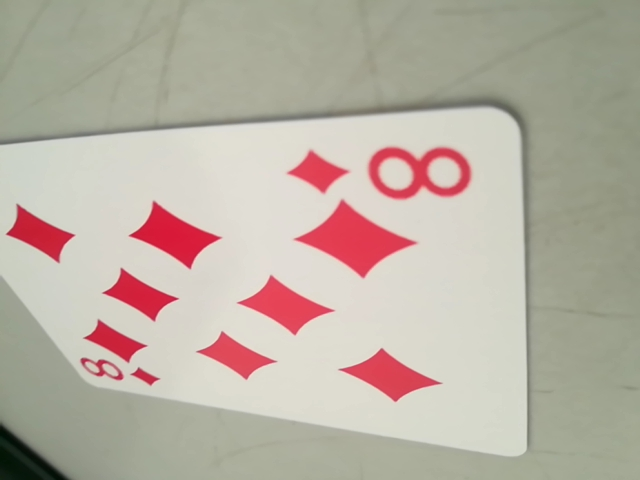fk 8: (288, 132, 481, 208), (76, 354, 157, 389)
